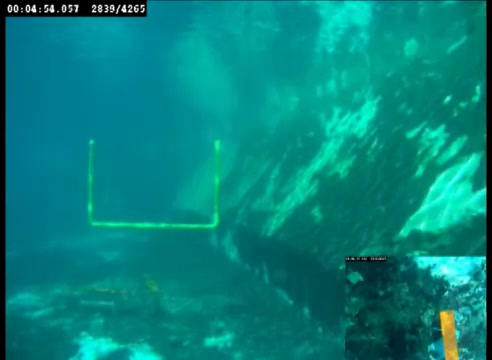channel: (81, 138, 229, 233)
